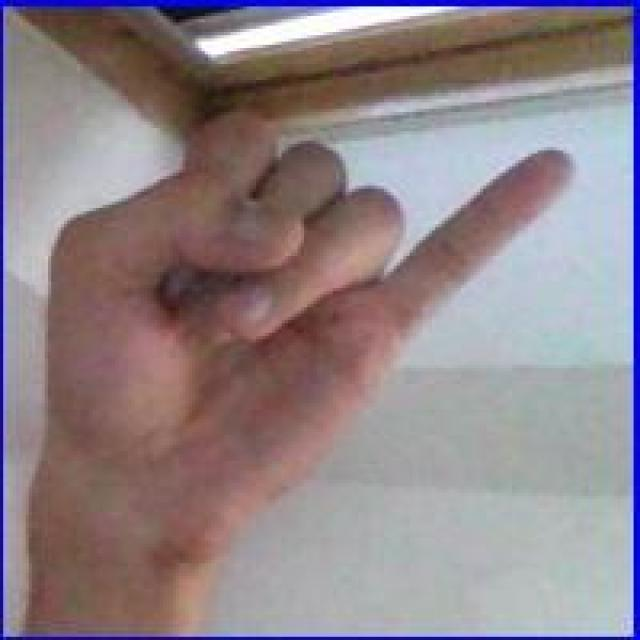J: (26, 107, 576, 533)
